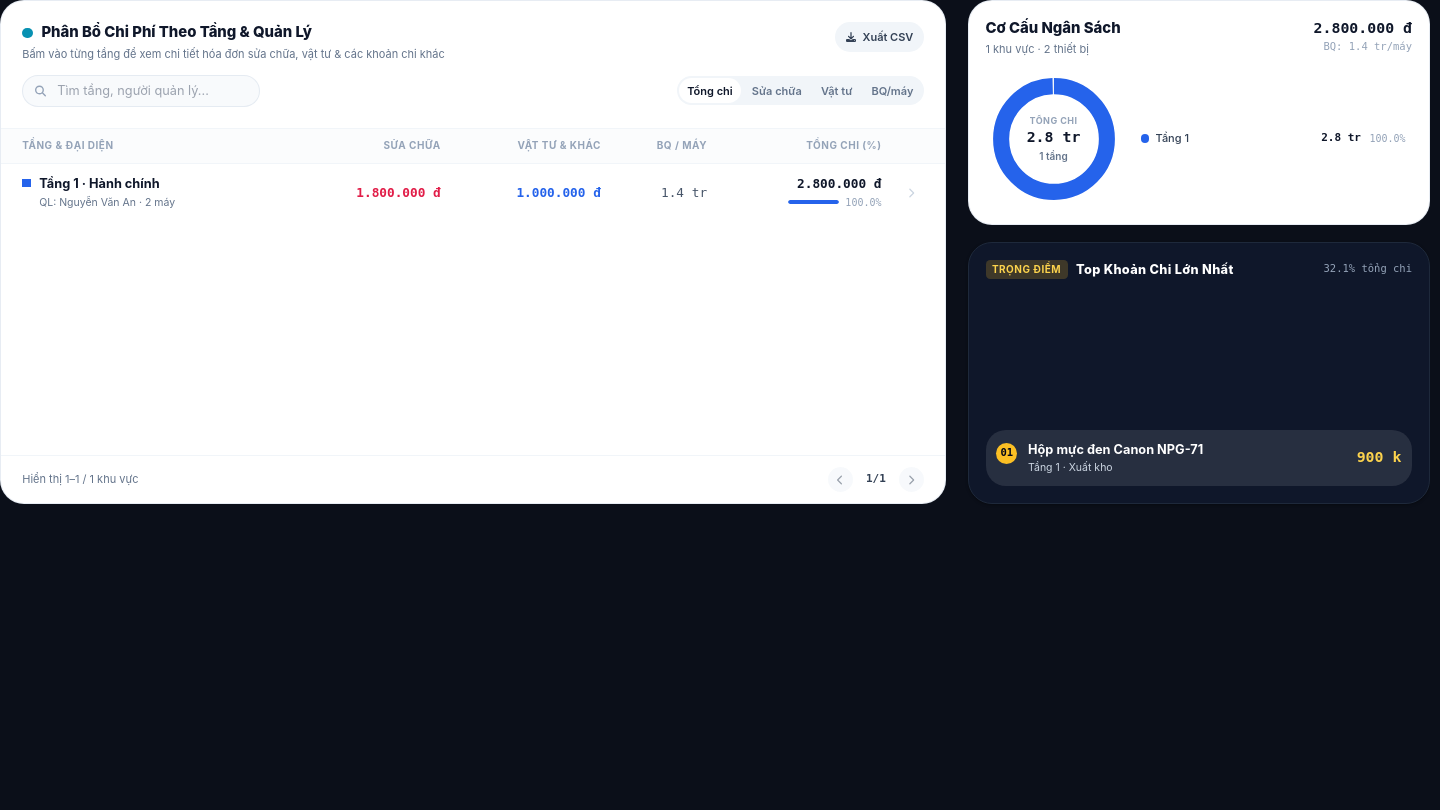
Test: Analytics Flow — RBAC, Data Integrity & Components › DepartmentCostBreakdown renders Clean Slate message on empty array and supports search + CostBreakdownDetailModal
The width and height of the screenshot is (1440, 810).
Expected: the text "Chưa có dữ liệu phân bổ chi phí theo tầng và quản lý." is shown, x1=968 y1=0 x2=1430 y2=504
Expected: the text "Tầng 1 · Hành chính" is shown, x1=39 y1=174 x2=160 y2=192
Click the button named "Khoản chi". click: coordinates (911, 193)
box: x1=898 y1=180 x2=924 y2=205
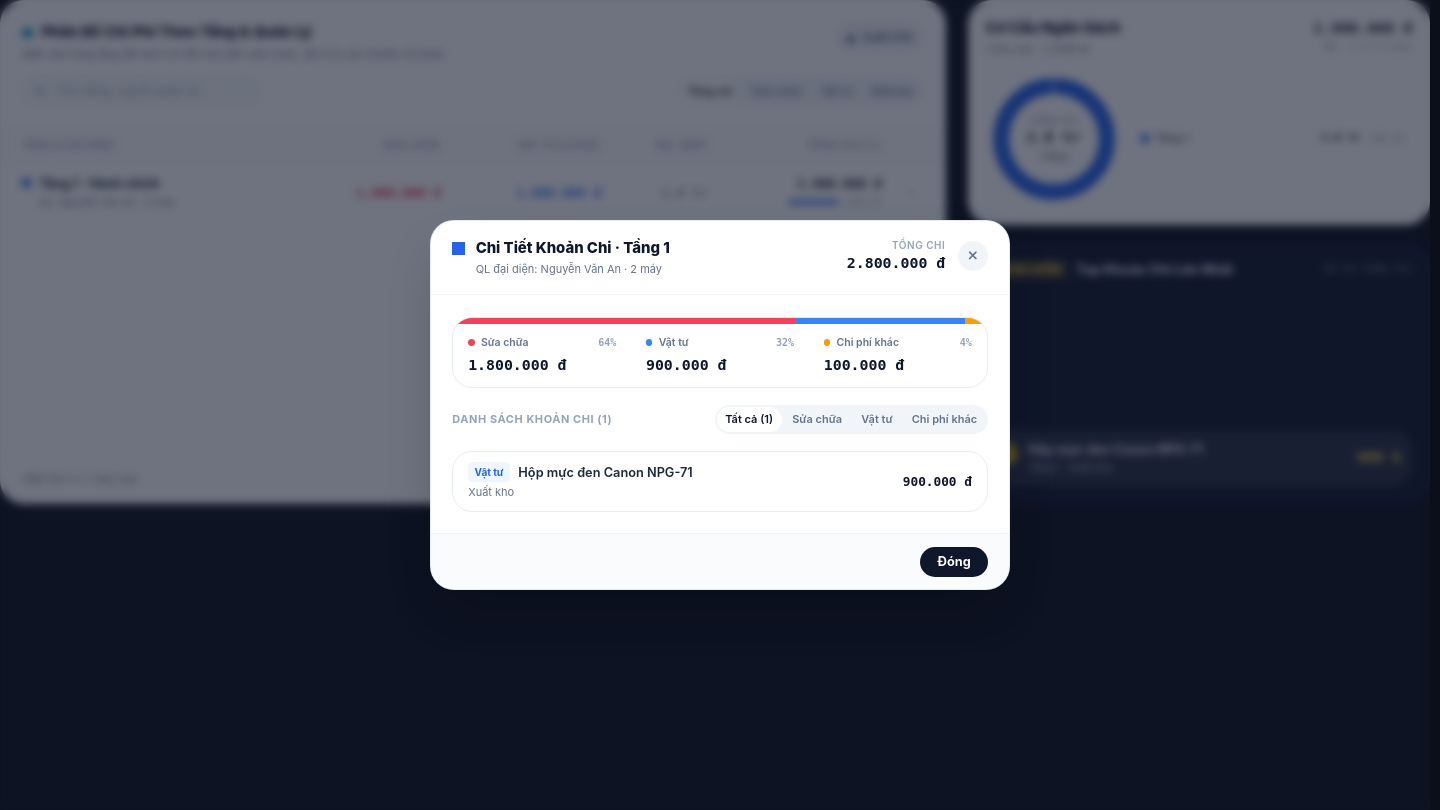
Expected: the heading "Chi Tiết Khoản Chi · Tầng 1" is shown, x1=476 y1=238 x2=670 y2=259
